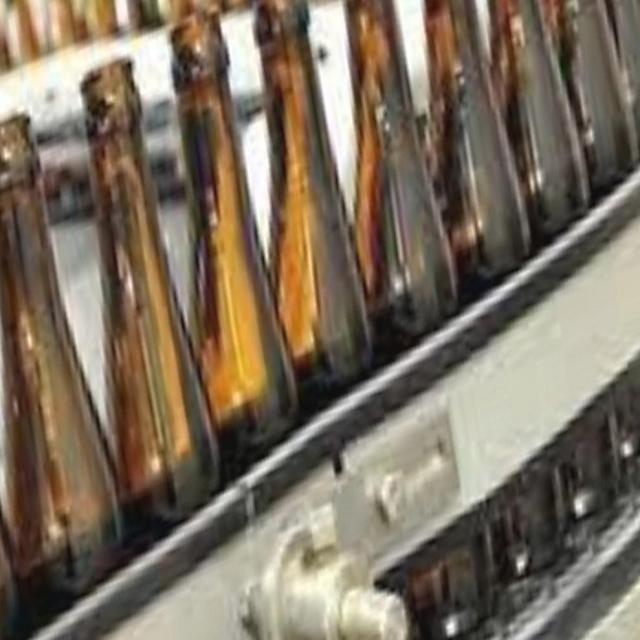bottle: (77, 52, 220, 534), (1, 108, 125, 622), (165, 6, 302, 467), (334, 0, 481, 346)
food: (1, 2, 638, 632)
